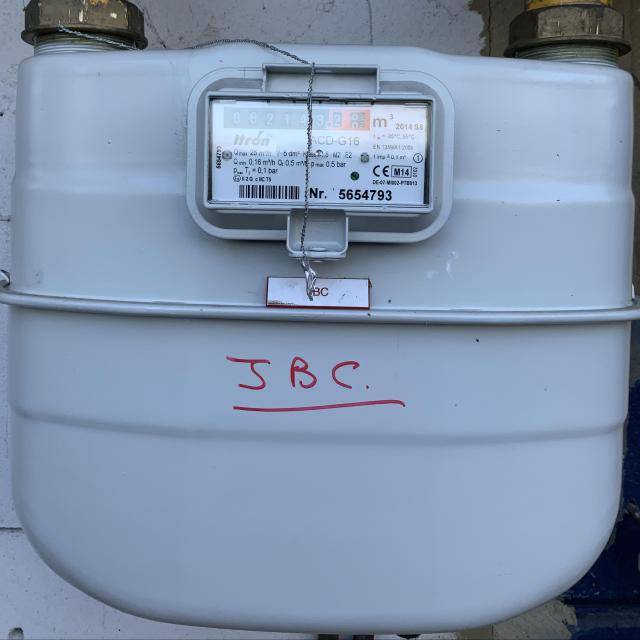gaz_meter: (207, 95, 431, 212)
indication: (227, 108, 370, 130)
